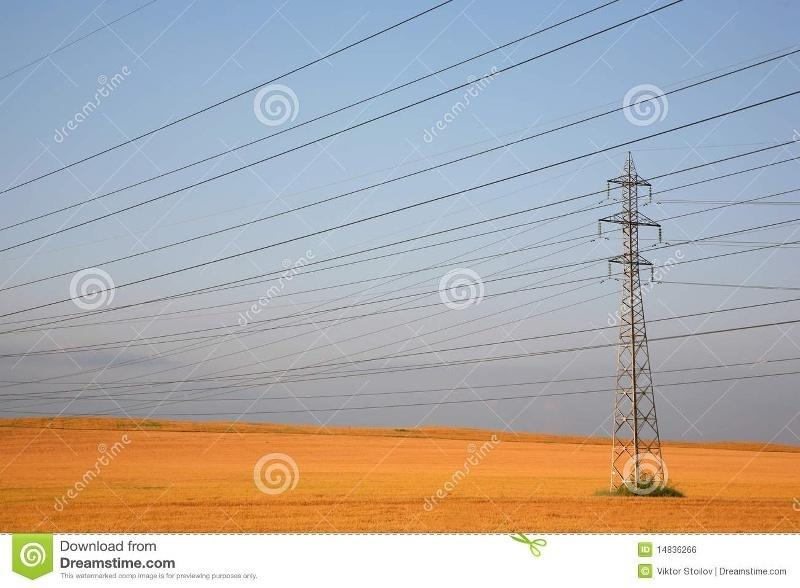power_tower: (589, 169, 691, 484)
